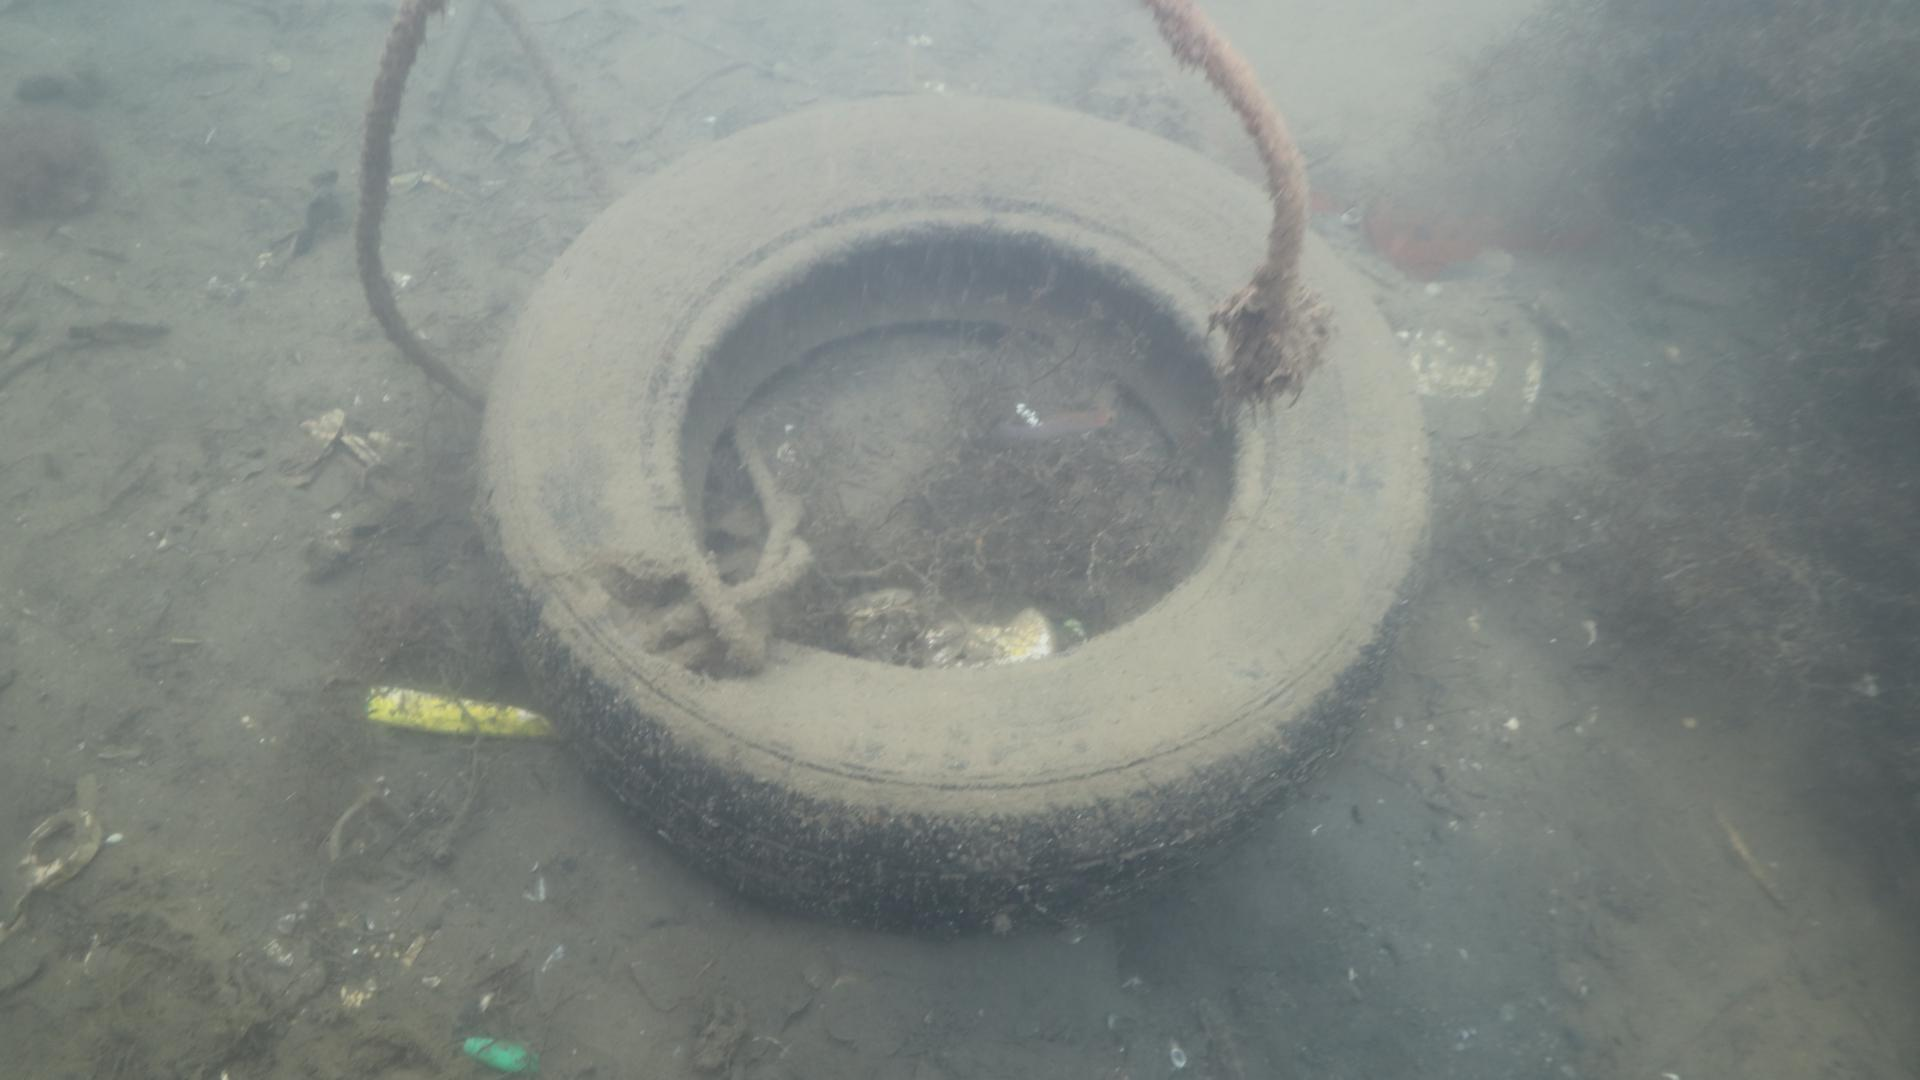bundle of ropes: (644, 425, 814, 671)
tire: (471, 91, 1429, 924)
